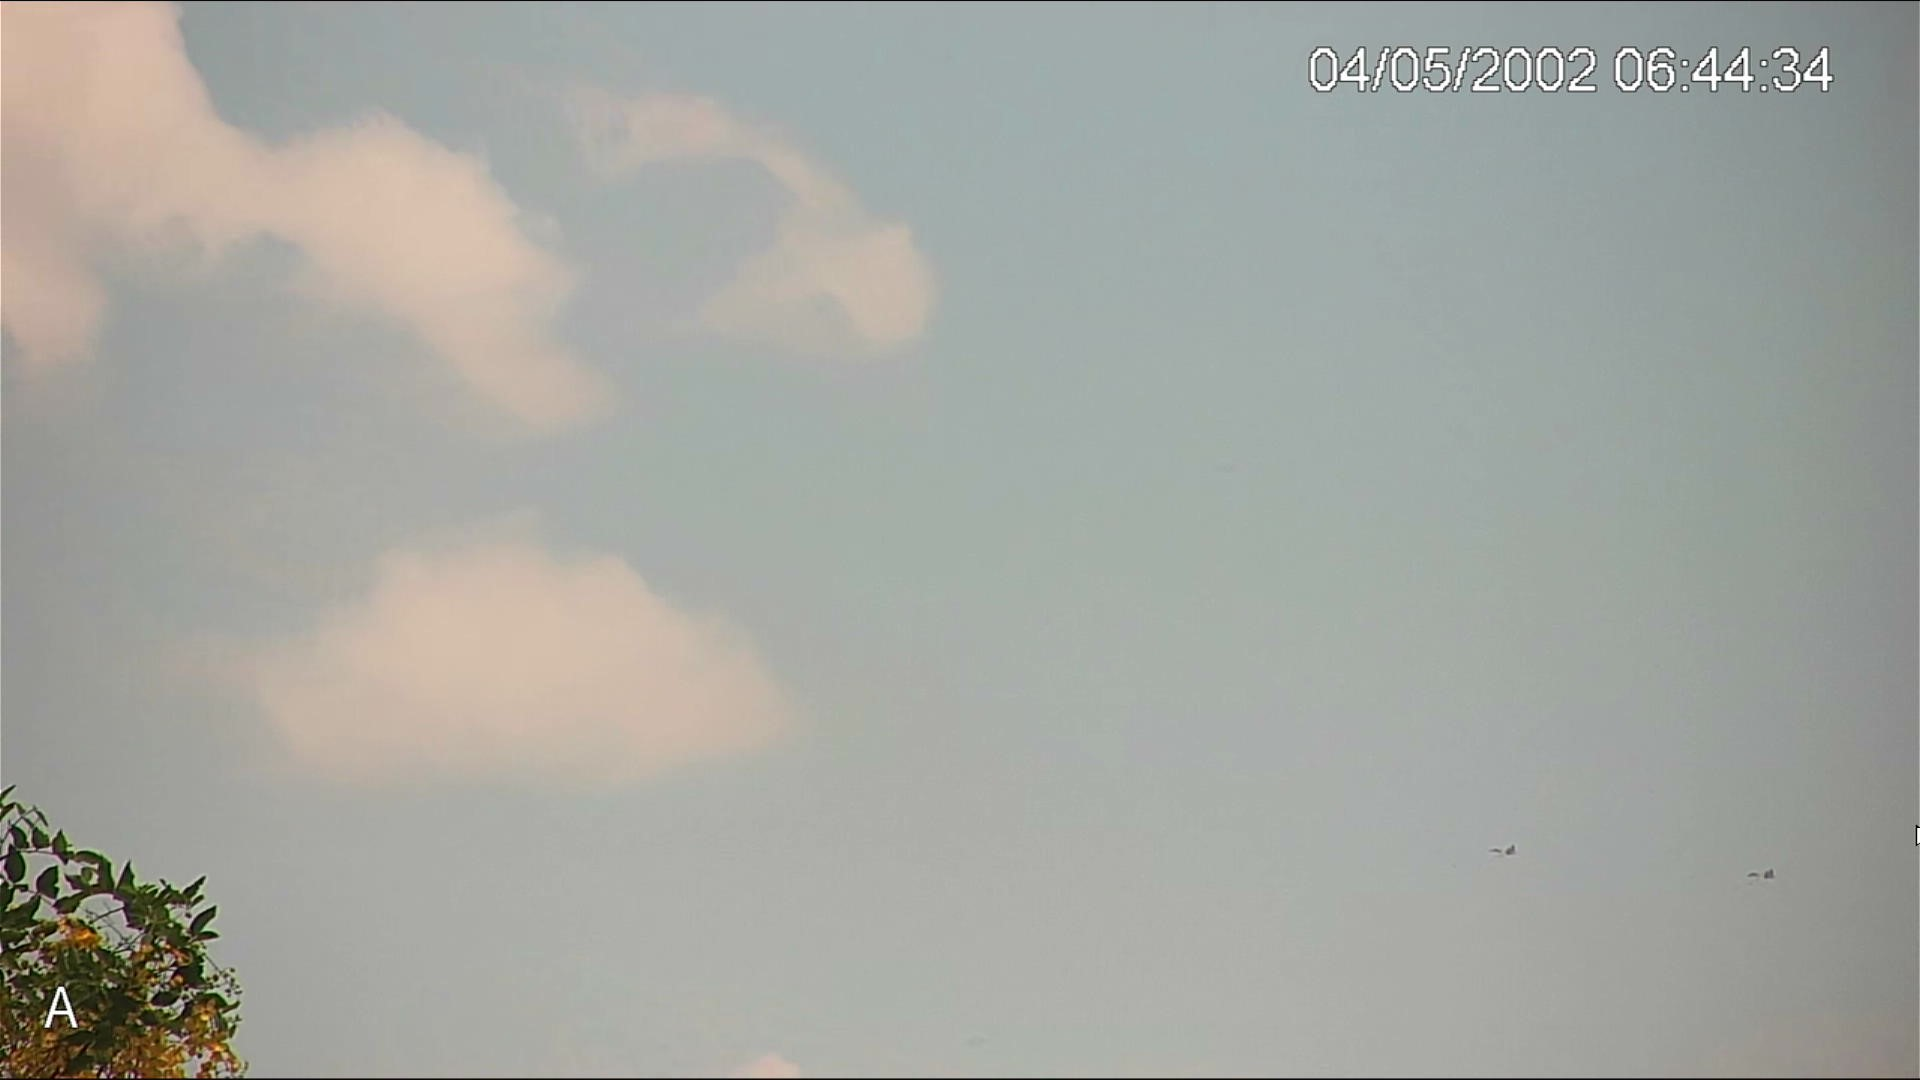SU_30: (1487, 844, 1520, 857), (1745, 868, 1775, 881)
